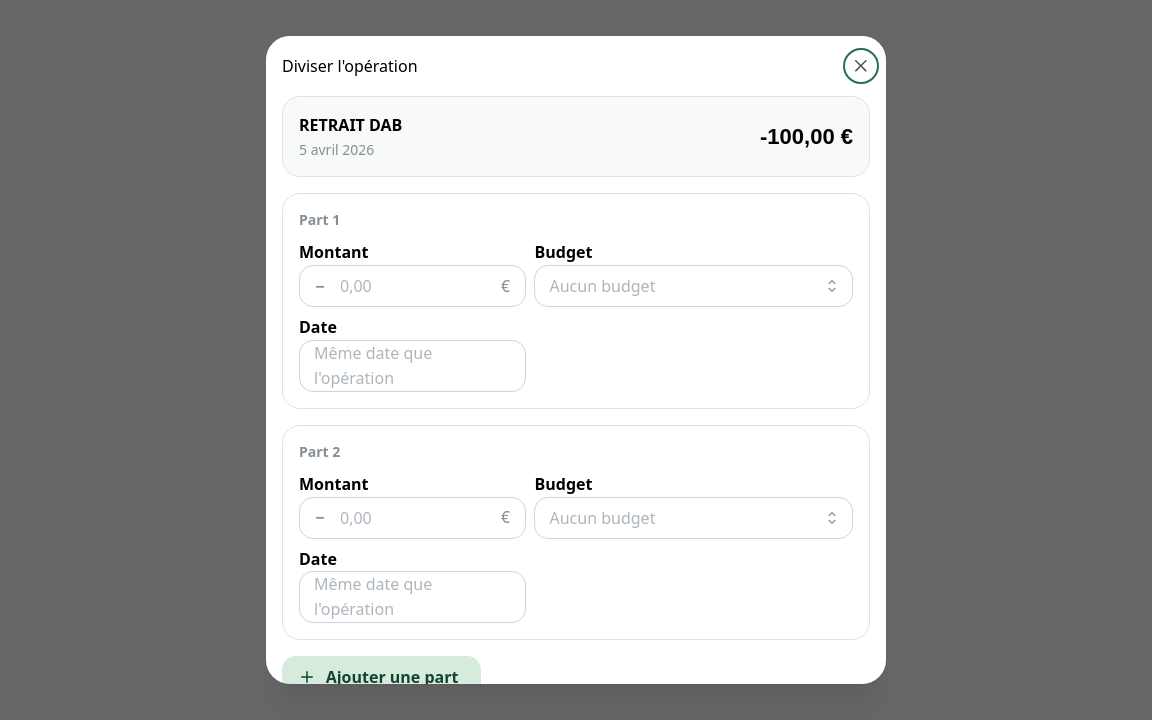
SplitOperationModal › keeps at least two parts
Click the button "Ajouter une part". click: (382, 677)
box: [282, 656, 482, 698]
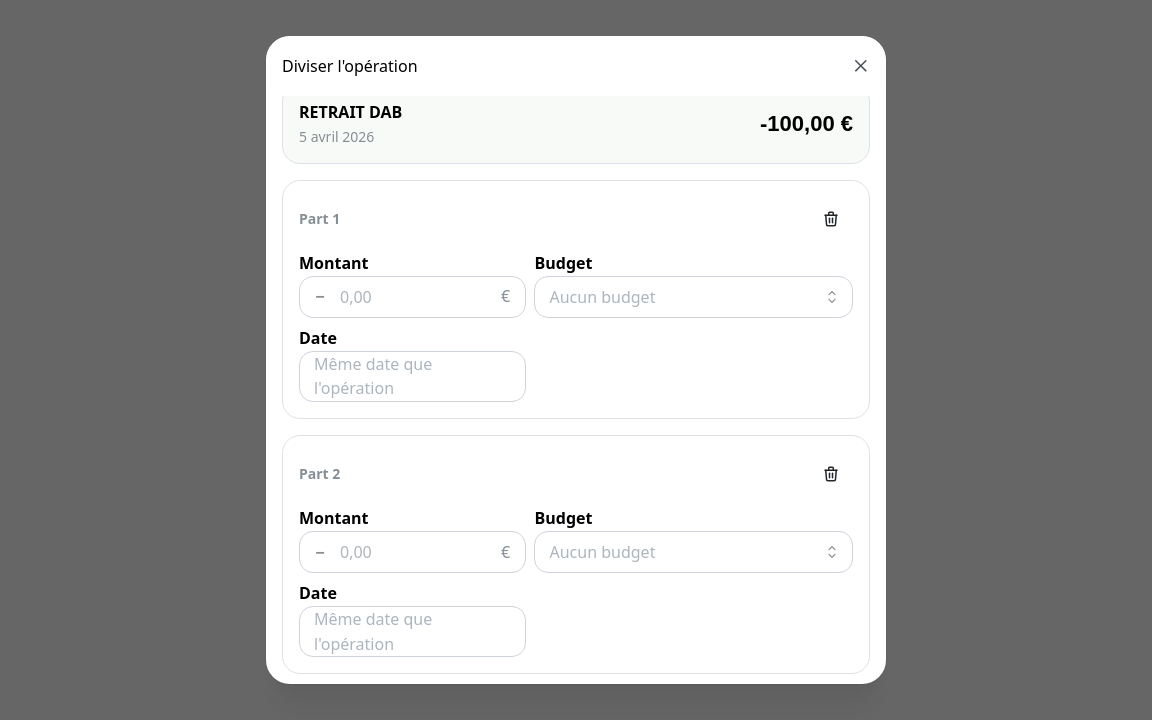
Click the button named "Retirer la part (Part 2)". click: (831, 474)
box: [809, 452, 853, 496]
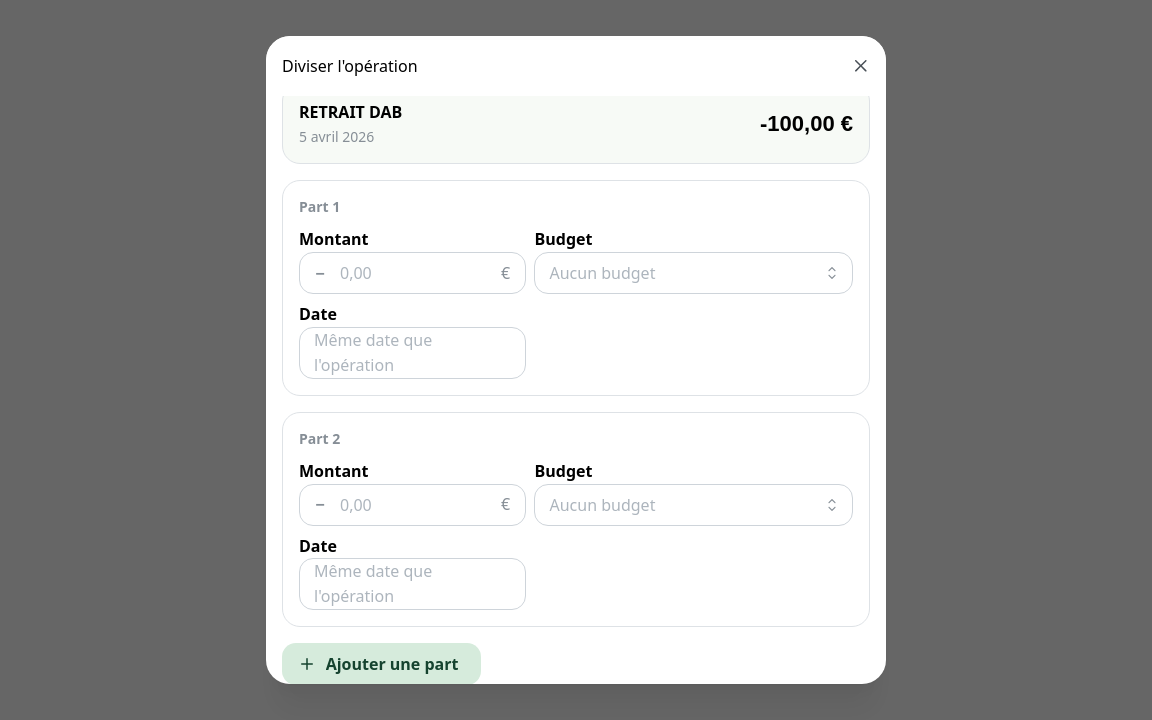
Check: the field named "Montant (Part 2)" is shown, box [299, 484, 526, 526]
